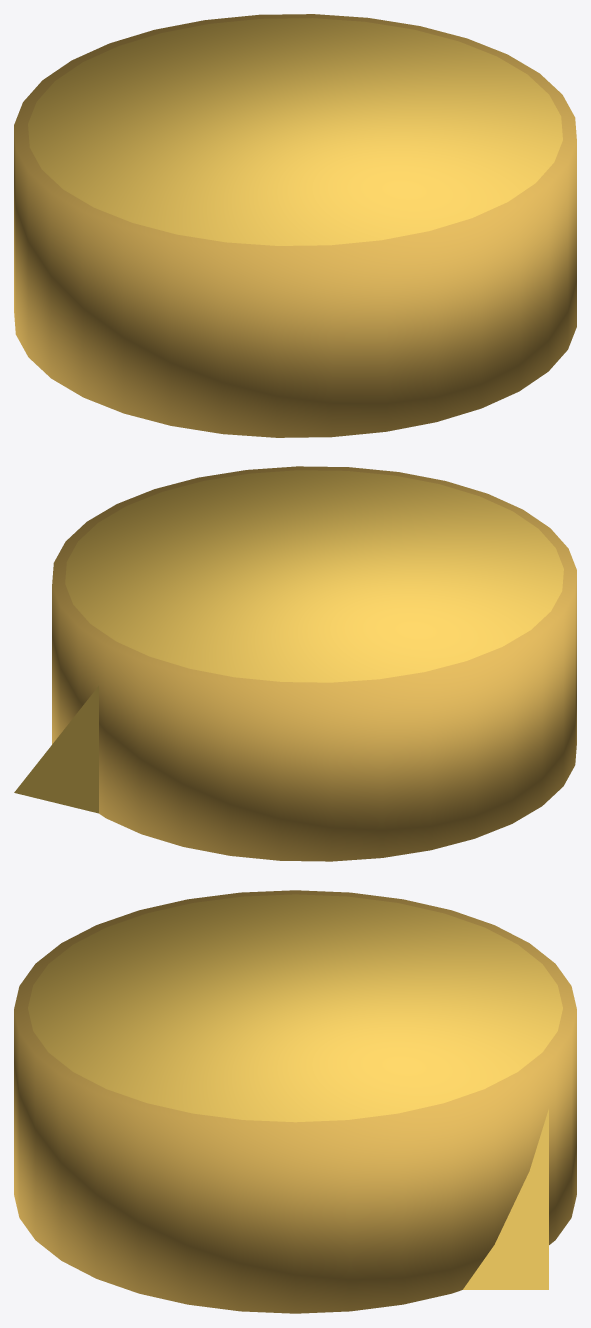
File: world_cheese_cheddar.glb
3 views of the same model, one above another, from view 1: azimuth 30°, elevation 25°; view 2: azimuth 150°, elevation 25°; view 3: azimuth 270°, elevation 25° (orthographic). The views are drawn at different scales.
Parts seen in each view (by area): view 1: world_cheese_cheddar; view 2: world_cheese_cheddar; view 3: world_cheese_cheddar.
Boxes of the visible parts, x1,y1,x2,y2 form: world_cheese_cheddar: (14,14,576,437); world_cheese_cheddar: (14,466,576,861); world_cheese_cheddar: (14,890,576,1313).
Bounding box in the file's own units: 1.1 × 0.404 × 1.1.
